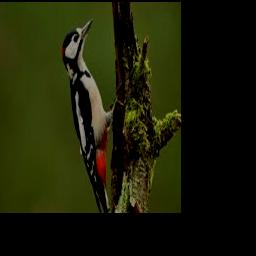Woodpecker: (62, 17, 126, 213)
